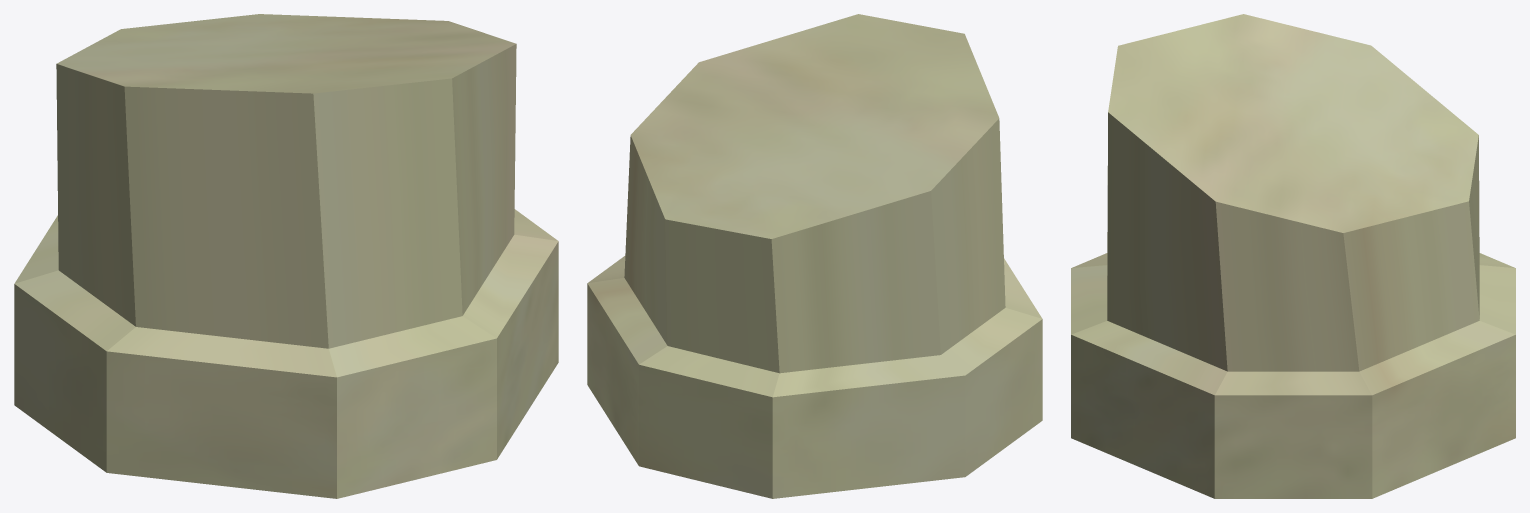
File: Pillar 2.fbx
3 views of the same model, side by side, from view 1: azimuth 30°, elevation 25°; view 2: azimuth 150°, elevation 25°; view 3: azimuth 270°, elevation 25° (orthographic). The views are drawn at different scales.
Parts seen in each view (by area): view 1: Cube.003; view 2: Cube.003; view 3: Cube.003.
Boxes of the visible parts, left/top/right/bottom form: Cube.003: left=14, top=14, right=558, bottom=498; Cube.003: left=587, top=14, right=1042, bottom=498; Cube.003: left=1071, top=14, right=1515, bottom=498.
Size of the model in its own units: 79.26 by 64.41 by 79.26.
Materials: 1 (1 with a texture image).
